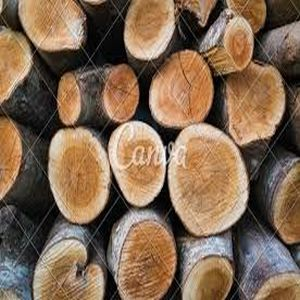log: (165, 121, 253, 243), (46, 127, 113, 227), (220, 57, 287, 147), (107, 116, 167, 209), (148, 48, 214, 130), (116, 219, 179, 300), (30, 236, 107, 300), (15, 1, 88, 53), (123, 1, 180, 63), (178, 251, 239, 300), (219, 14, 257, 79), (99, 63, 140, 122), (52, 73, 87, 128)
